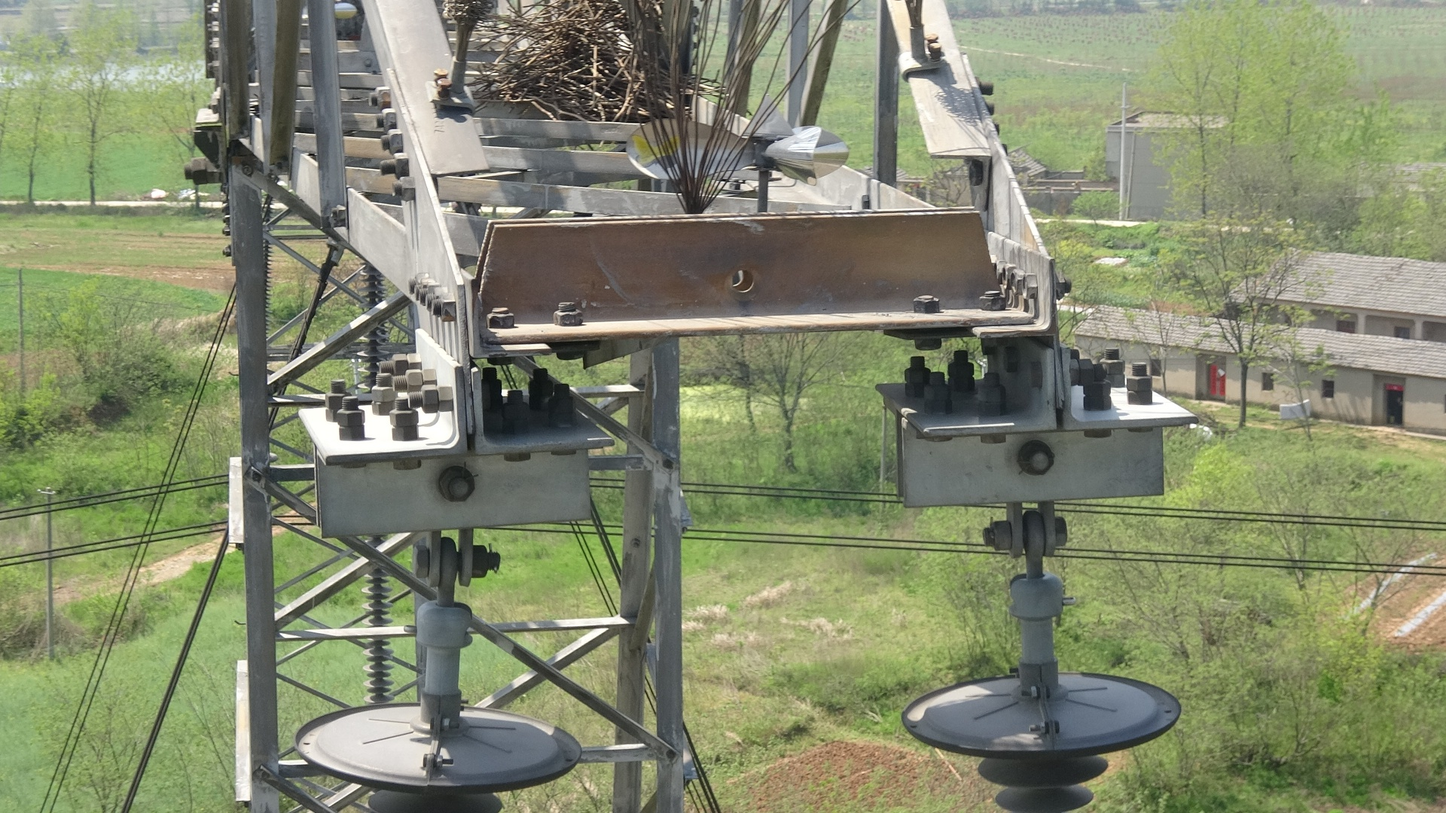insulator: (967, 746, 1120, 813), (357, 568, 398, 711), (353, 264, 394, 383)
